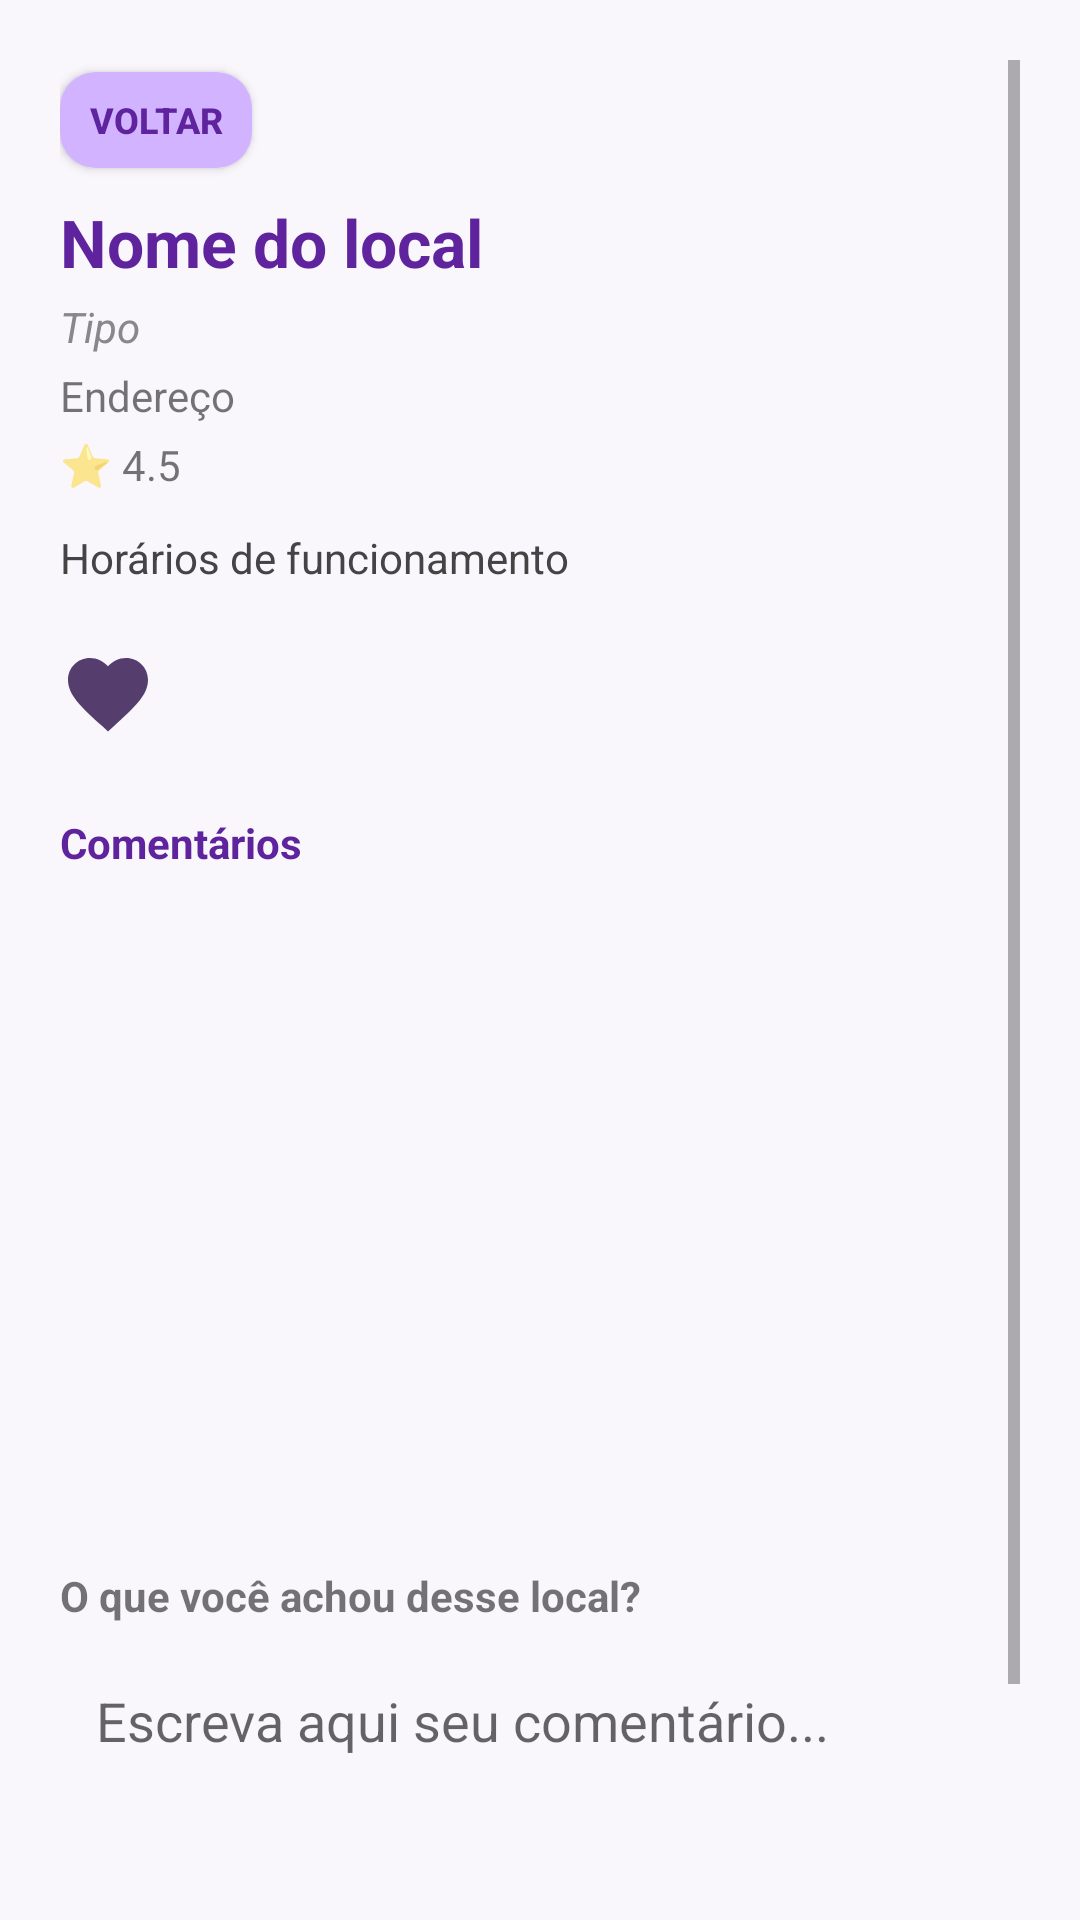

Named icons in this screenshot (1080x1920) and their centers, [x,y]:
Favoritar: [108,694]
